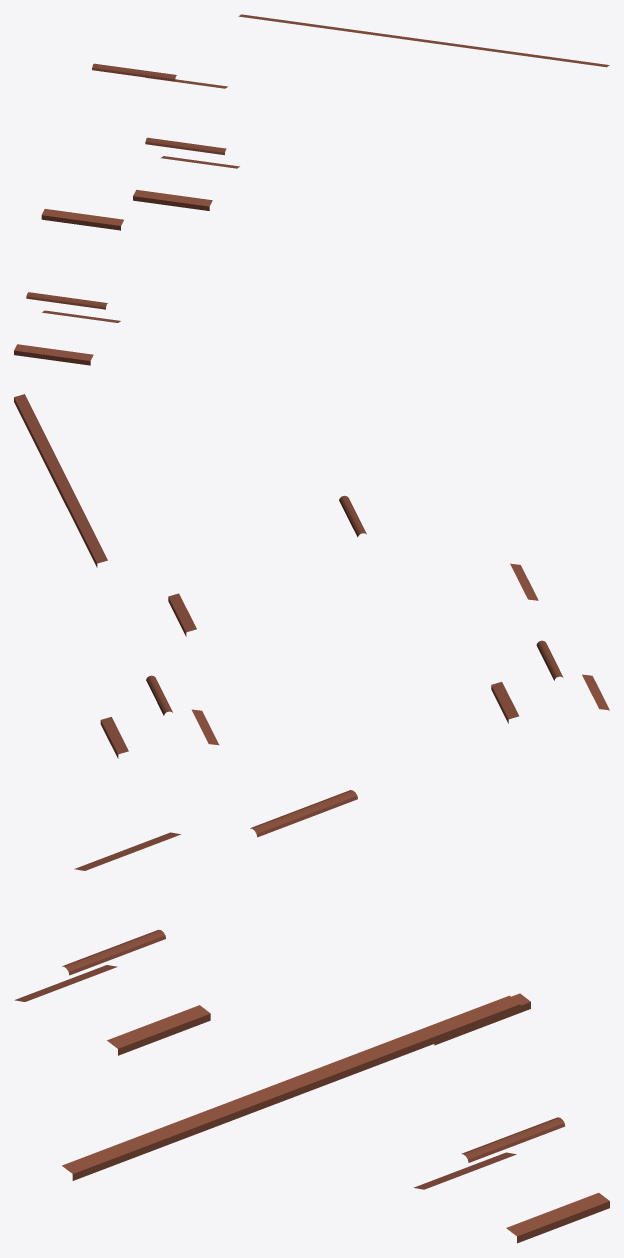
3 views of the same model, one above another, from view 1: azimuth 30°, elevation 25°; view 2: azimuth 150°, elevation 25°; view 3: azimuth 270°, elevation 25° (orthographic). The views are drawn at different scales.
Parts seen in each view (by area): view 1: detail; view 2: detail; view 3: detail.
Boxes of the visible parts, bbox=[...] form: detail: bbox=[14, 14, 609, 365]; detail: bbox=[14, 394, 609, 758]; detail: bbox=[14, 790, 609, 1243].
Size of the model in its own units: 20.3 by 6.56 by 11.53.
